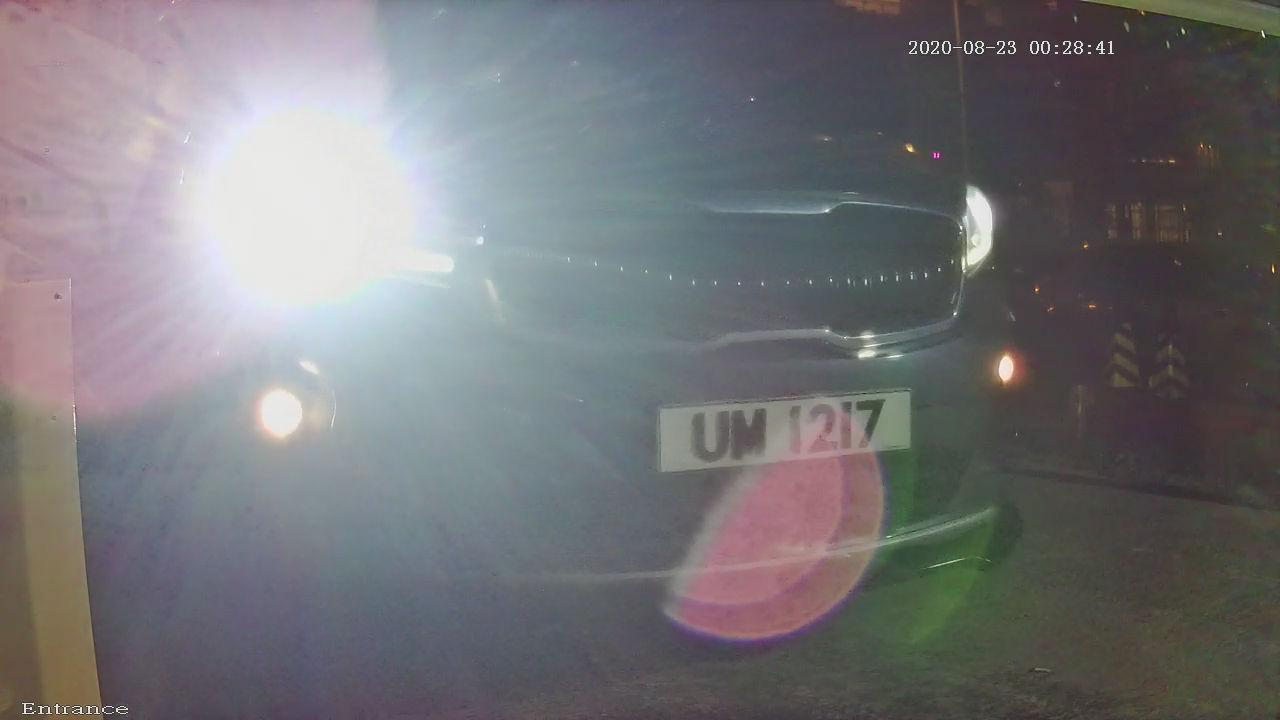Car: (1, 17, 1172, 669)
License Plate: (616, 345, 944, 532)
